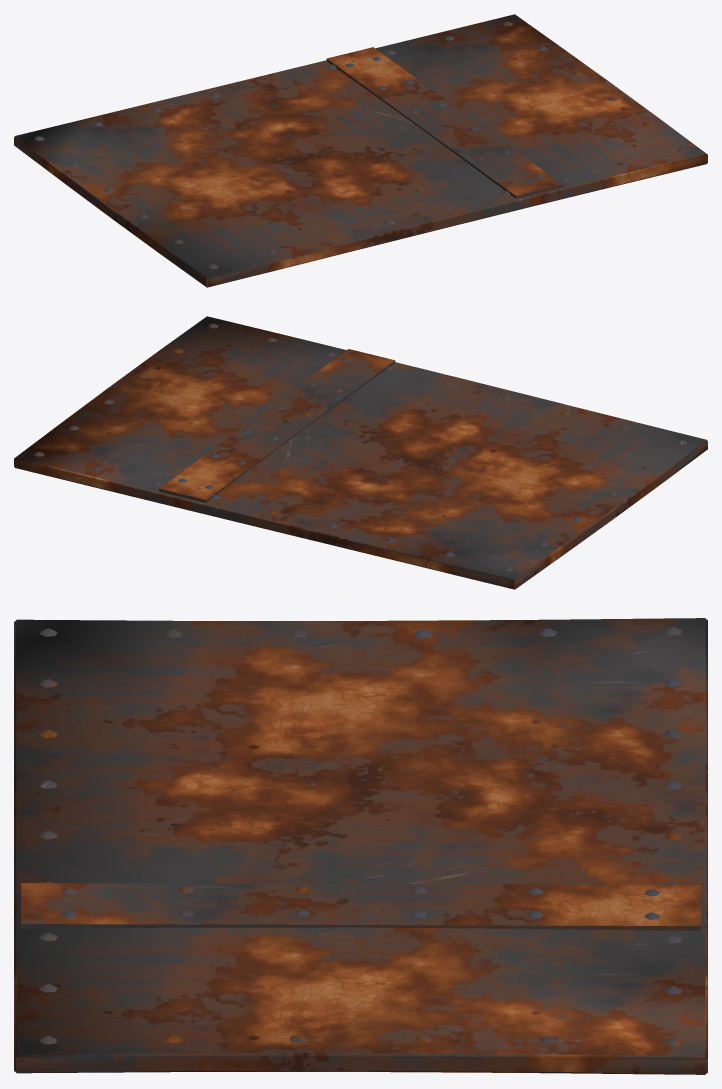
File: Metal_Plate.glb
3 renders of one model, top to bottom at view 1: azimuth 30°, elevation 25°; view 2: azimuth 150°, elevation 25°; view 3: azimuth 270°, elevation 25°, orthographic. The views are drawn at different scales.
Parts seen in each view (by area): view 1: Metal_Plate; view 2: Metal_Plate; view 3: Metal_Plate.
Boxes of the visible parts, <box> form: Metal_Plate: <box>14,14,707,287</box>; Metal_Plate: <box>14,316,707,589</box>; Metal_Plate: <box>14,618,707,1074</box>.
Bounding box in the file's own units: 1.5 × 0.055 × 1.
Materials: 2 (2 with a texture image).
